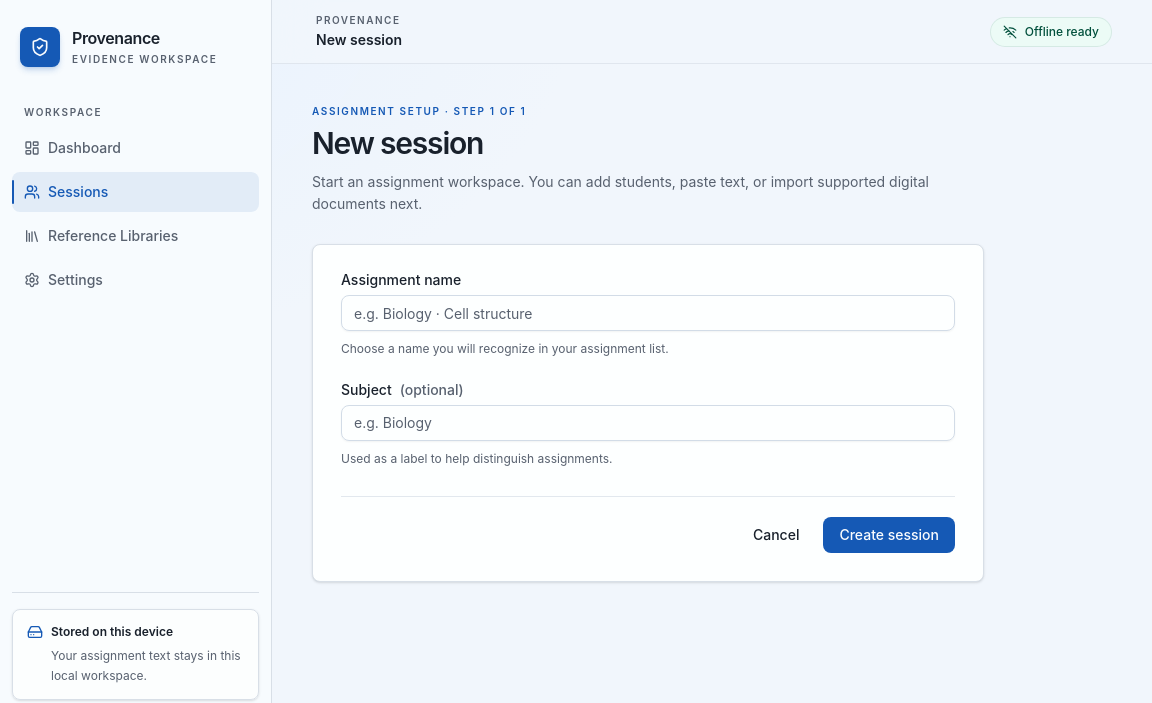
it: sessions flow › adds and removes a student with confirmation
Expected: the heading "New session" is shown, [312, 125, 483, 161]
Type "Math Quiz" into the field labelled "Assignment name" at (648, 313), box [341, 295, 955, 331]
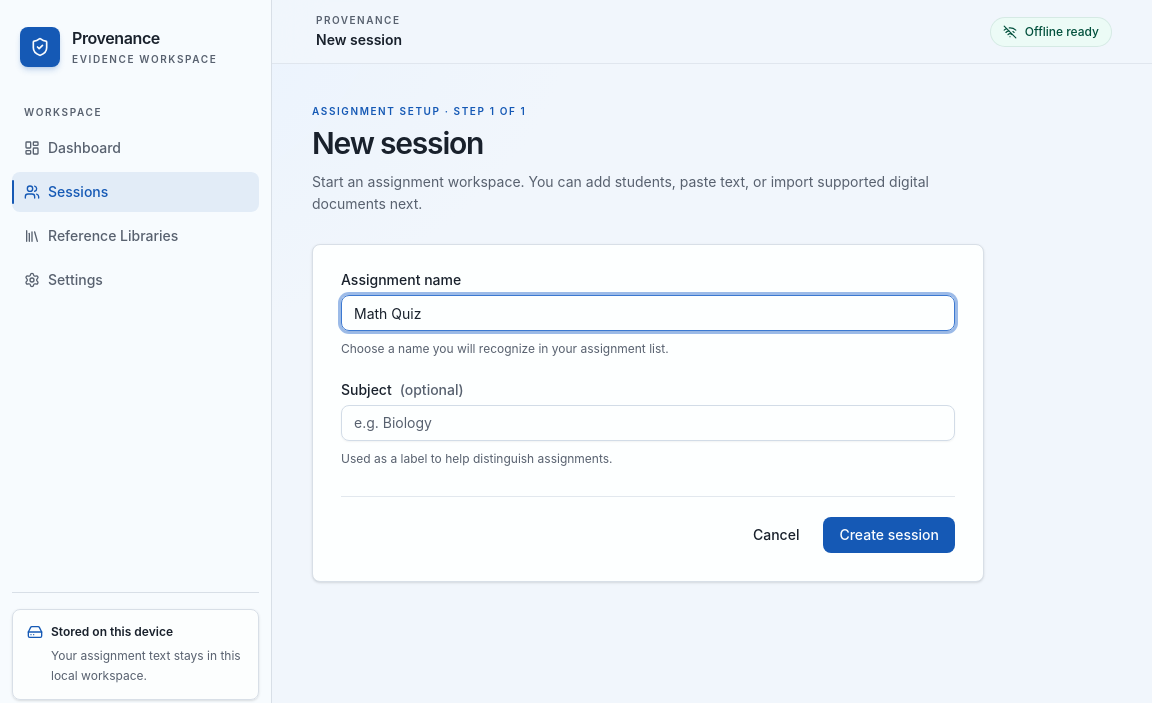
Click the button "Create session" at (889, 535), box [823, 517, 955, 553]
(page scrolled)
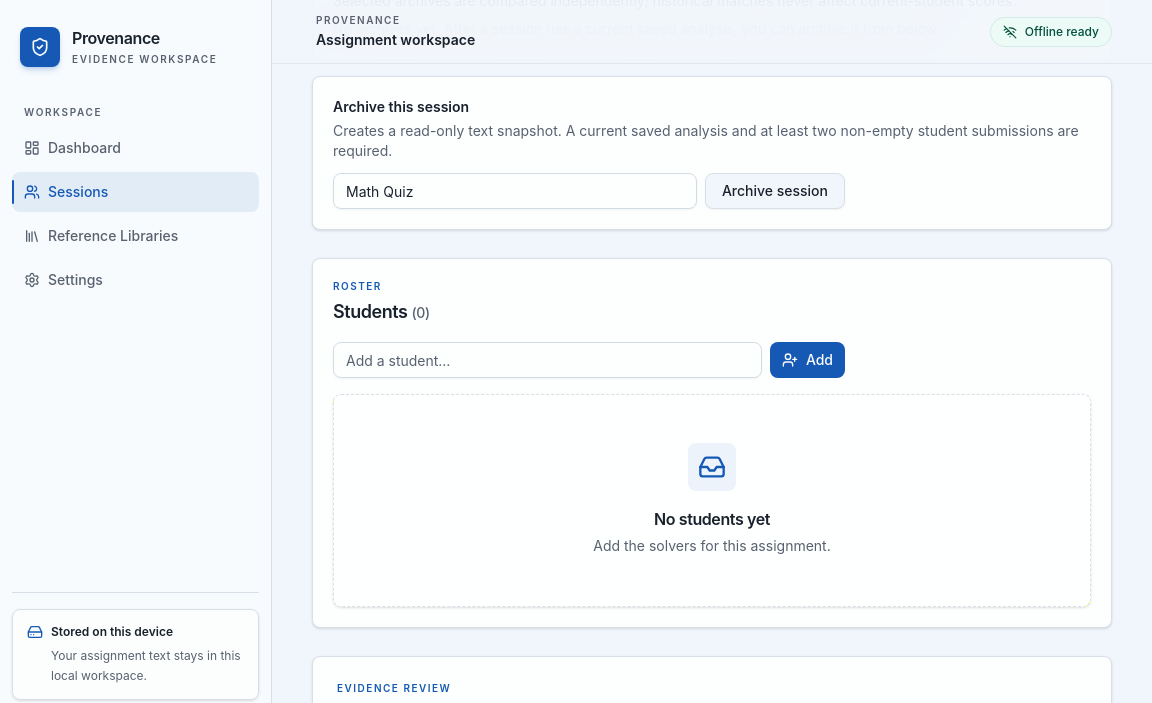
Type "Rahul" into the field named "student name" at (547, 360), box [333, 342, 762, 378]
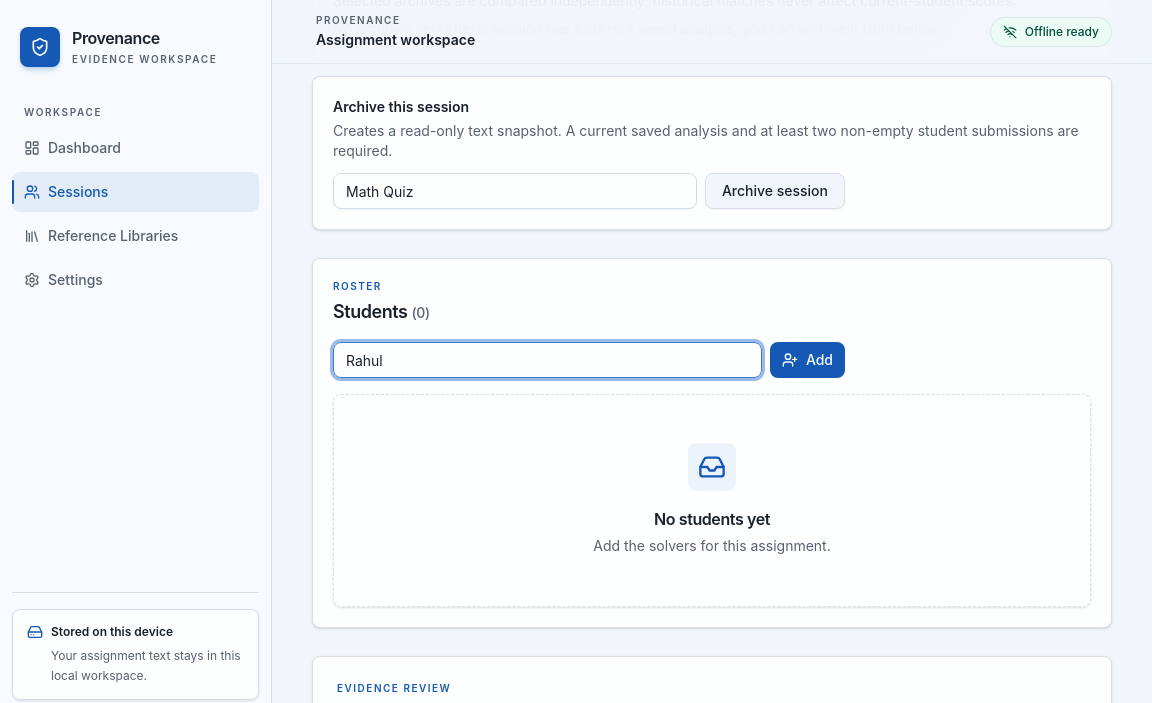
Click the button "Add" at (807, 360), box [770, 342, 845, 378]
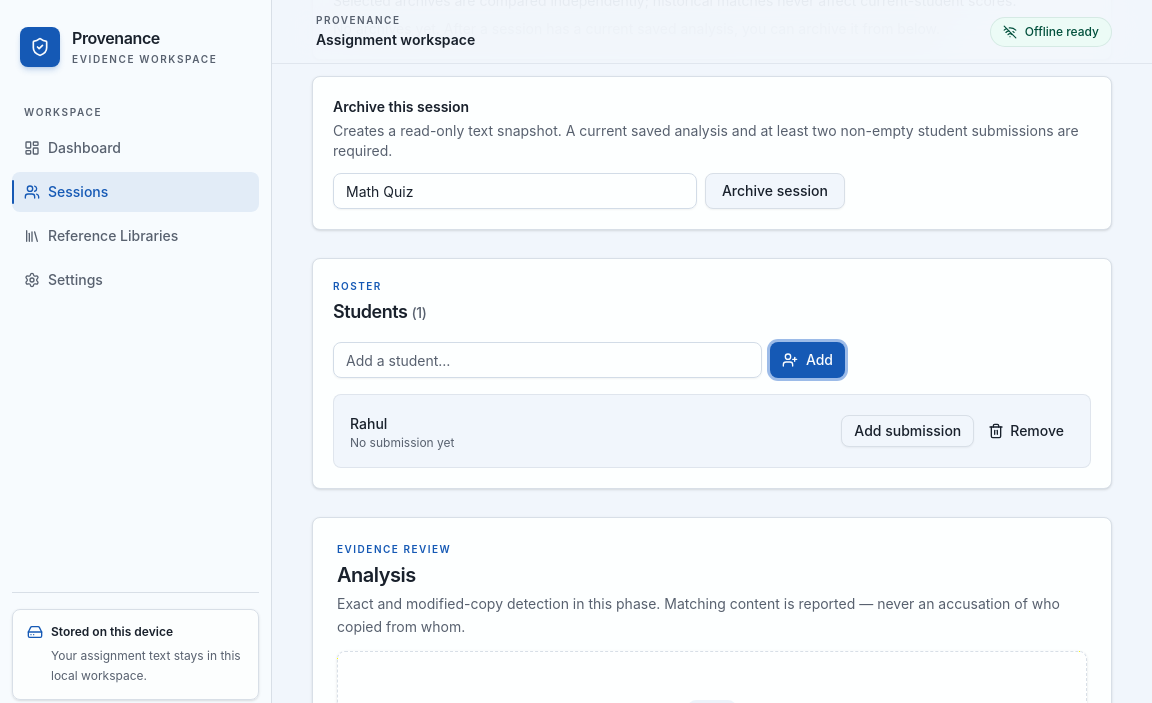
Expected: the text "Rahul" is shown, [350, 415, 387, 432]
Click the button with aria-label "remove rahul" at (1026, 431), box [978, 415, 1074, 447]
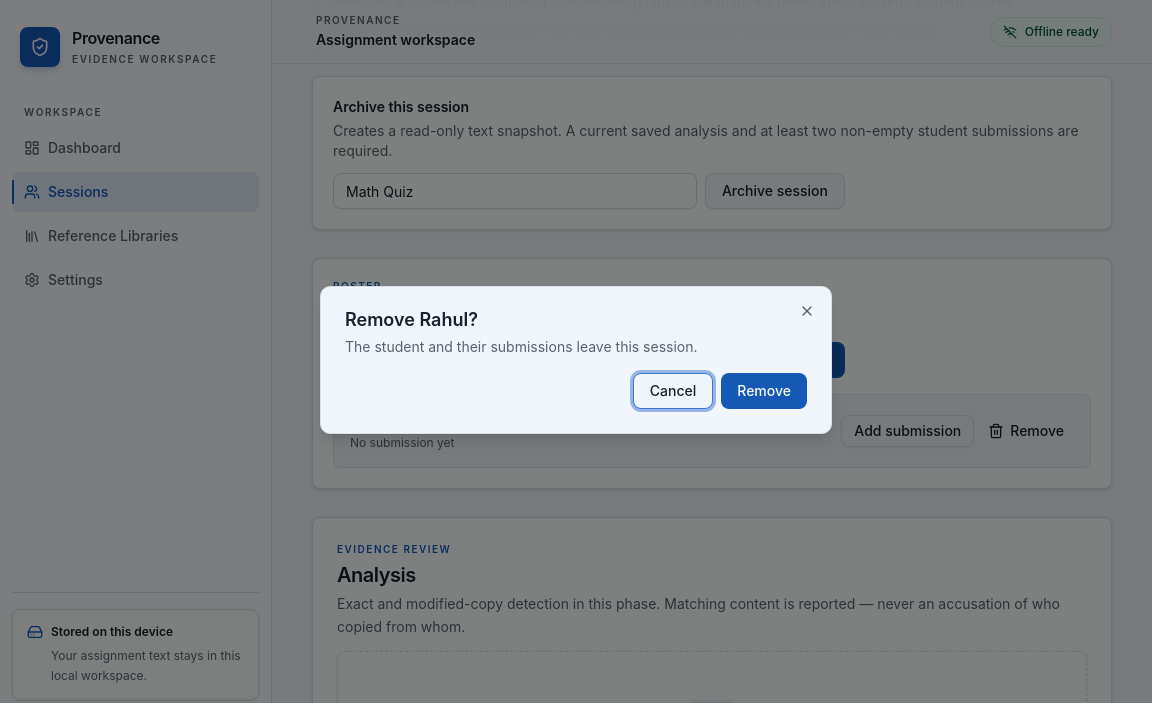
Click the button "Remove" at (764, 391), box [721, 373, 807, 409]
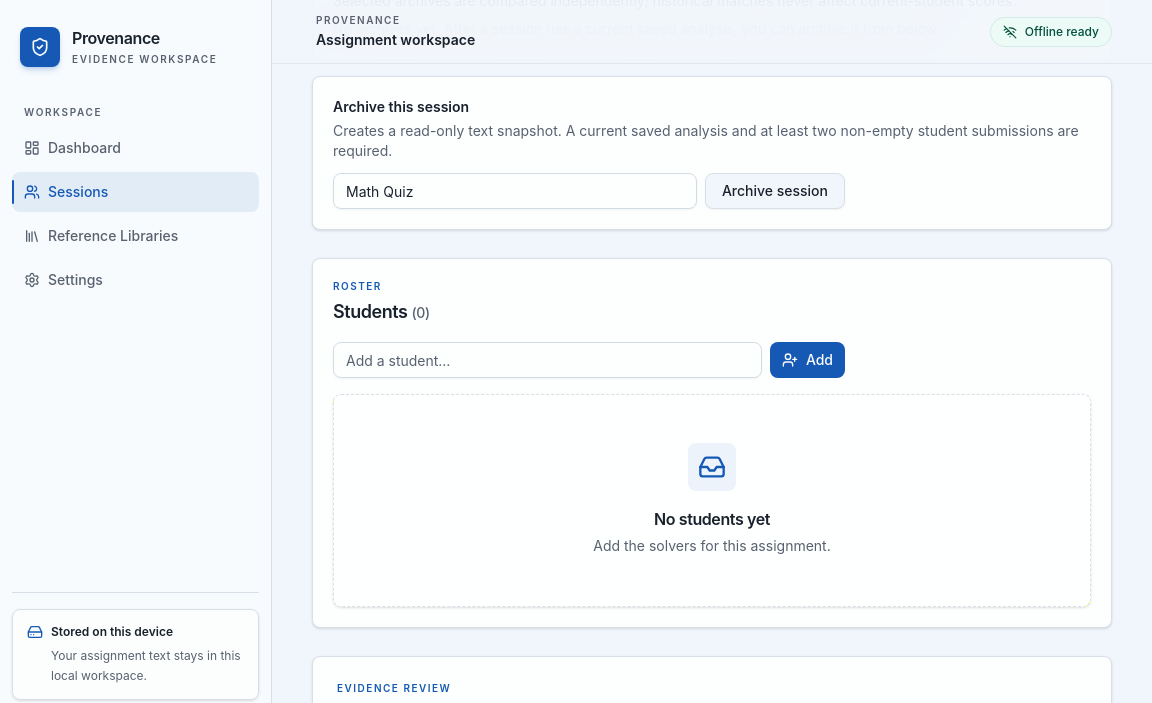
Expected: the text "Rahul" is not shown
Expected: the heading "No students yet" is shown, [654, 507, 770, 531]
